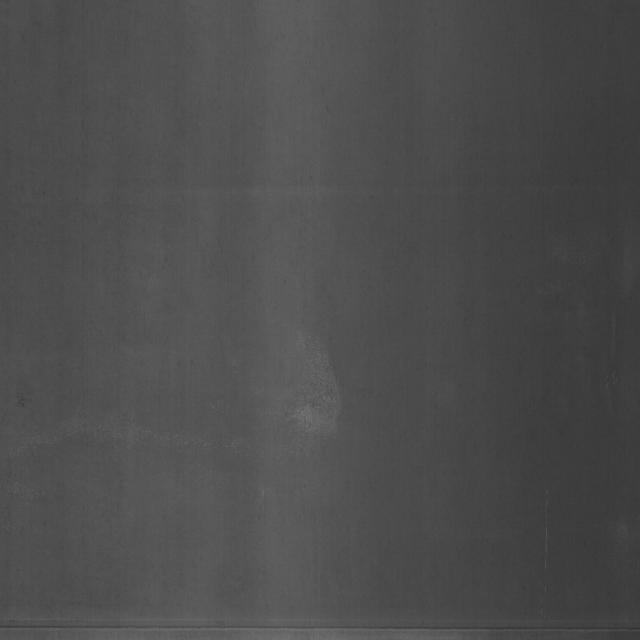crease: (2, 606, 637, 640)
